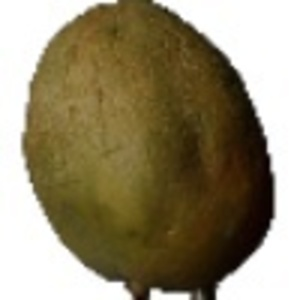mamão: (13, 2, 279, 290)
